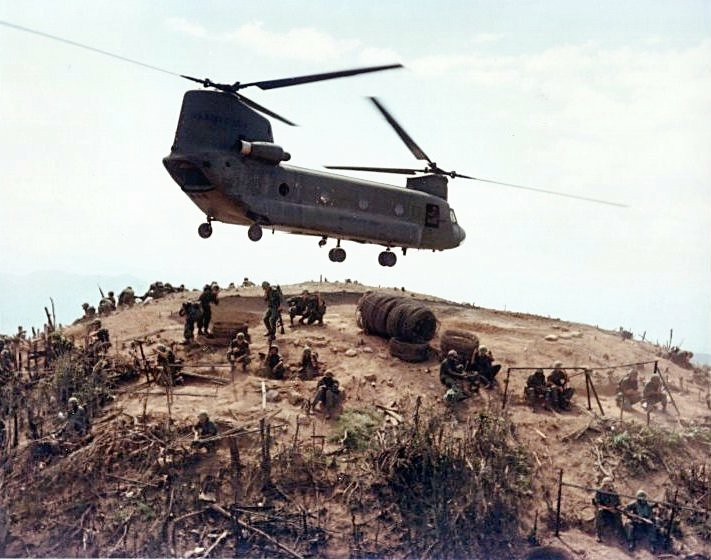chinook: (132, 63, 521, 270)
